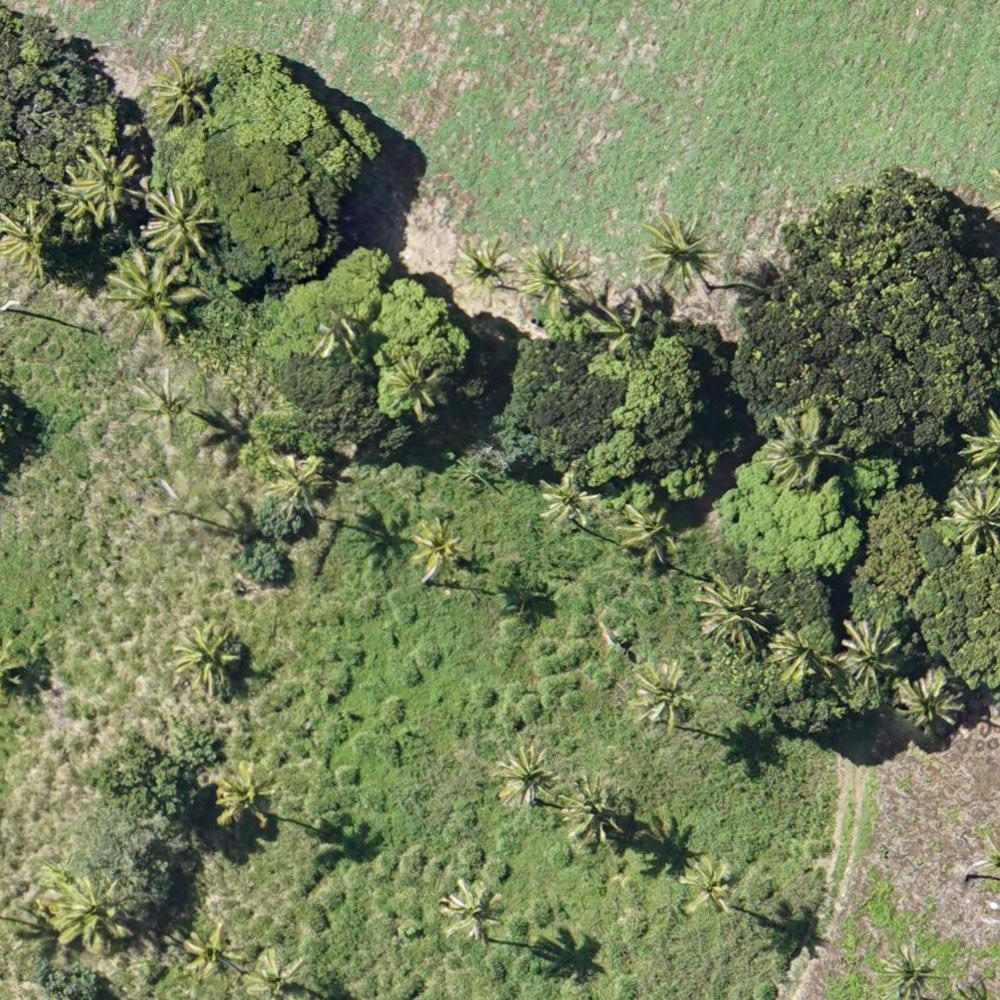Palm: (104, 252, 196, 340), (639, 208, 725, 291), (57, 869, 138, 952), (520, 238, 598, 316), (769, 407, 845, 484), (696, 576, 772, 651), (141, 188, 217, 263), (171, 623, 247, 693), (147, 56, 214, 127), (71, 145, 142, 212), (630, 660, 699, 728), (132, 372, 198, 443), (838, 614, 901, 688), (452, 229, 516, 301), (2, 196, 56, 280), (563, 774, 626, 844), (405, 511, 468, 580), (267, 450, 334, 514), (536, 469, 601, 534), (440, 875, 504, 941), (943, 482, 1000, 556), (214, 759, 278, 824), (899, 667, 966, 729), (876, 941, 948, 998), (771, 624, 835, 688), (617, 502, 679, 567), (676, 850, 738, 913), (496, 741, 555, 807), (384, 350, 445, 413), (242, 948, 309, 1000), (180, 929, 237, 983)
